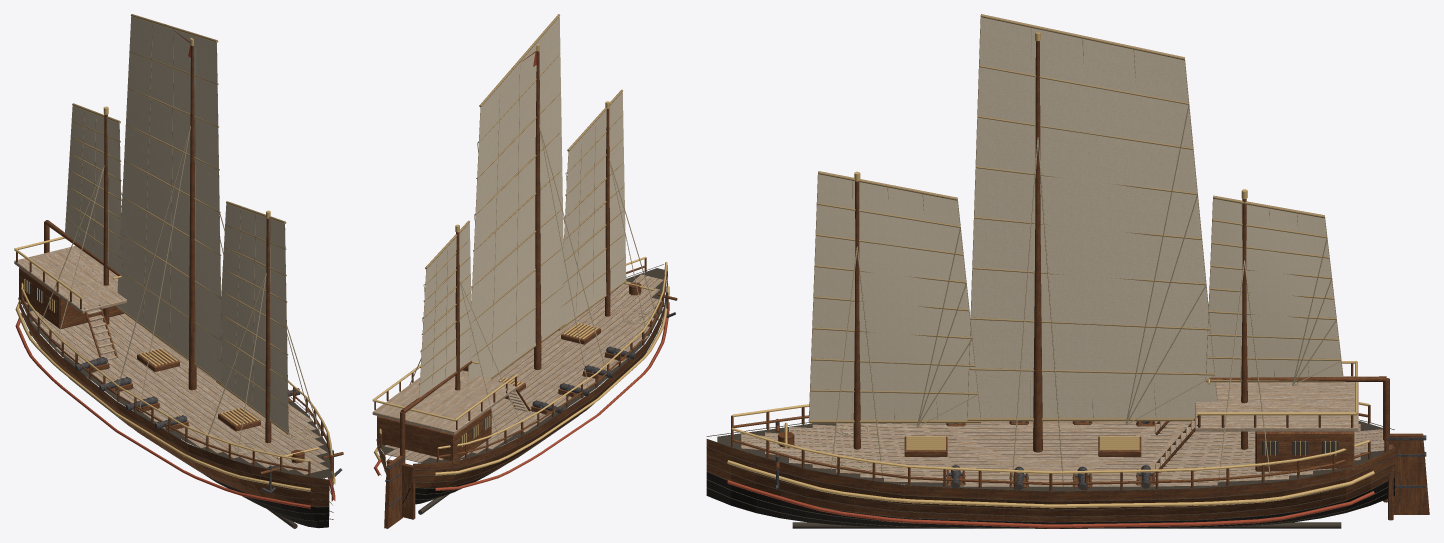
File: fuchuan-lod1.glb
3 renders of one model, left to right at view 1: azimuth 30°, elevation 25°; view 2: azimuth 150°, elevation 25°; view 3: azimuth 270°, elevation 25°, orthographic. The views are drawn at different scales.
Visible parts, largest first — view 1: sail_1, deck, sail_0, hull, sail_2, deck_fittings, bulwark_rails, mast_timber_1, sterncastle, mast_timber_0, rigging_1, rigging_0 (+4 smaller); view 2: sail_1, deck, sail_0, hull, sail_2, sterncastle, deck_fittings, bulwark_rails, mast_timber_1, rudder_blade, mast_timber_0, rigging_1 (+4 smaller); view 3: sail_1, sail_0, hull, deck, sail_2, bulwark_rails, deck_fittings, sterncastle, mast_timber_1, rudder_blade, mast_timber_0, rigging_1 (+1 smaller).
Part boxes in pixels (x1,y1,x2,y2): sail_1: (116,14,222,384); deck: (14,246,331,478); sail_0: (216,201,289,435); hull: (15,296,335,528); sail_2: (65,103,122,278); deck_fittings: (14,236,343,493); bulwark_rails: (21,282,332,476); mast_timber_1: (188,45,196,390); sterncastle: (19,267,123,328); mast_timber_0: (265,218,271,443); rigging_1: (116,126,224,410); rigging_0: (204,273,321,457); sail_1: (467,14,565,381); deck: (372,268,664,463); sail_0: (558,89,626,330); hull: (374,264,669,519); sail_2: (418,220,472,397); sterncastle: (377,408,491,464); deck_fittings: (372,282,677,446); bulwark_rails: (379,256,667,462); mast_timber_1: (534,51,541,369); rudder_blade: (384,455,403,528); mast_timber_0: (605,109,610,316); rigging_1: (539,125,606,389); sail_1: (967,14,1217,424); sail_0: (808,171,980,426); hull: (706,419,1395,528); deck: (717,376,1384,490); sail_2: (1205,195,1343,385); bulwark_rails: (731,402,1370,490); deck_fittings: (775,361,1357,489); sterncastle: (1255,431,1354,471); mast_timber_1: (1033,41,1042,452); rudder_blade: (1384,433,1429,514); mast_timber_0: (853,181,860,449); rigging_1: (1011,137,1064,486).
Bounding box in the file's own units: 9.53 × 26.38 × 33.61.
12 materials, 6 textured.
